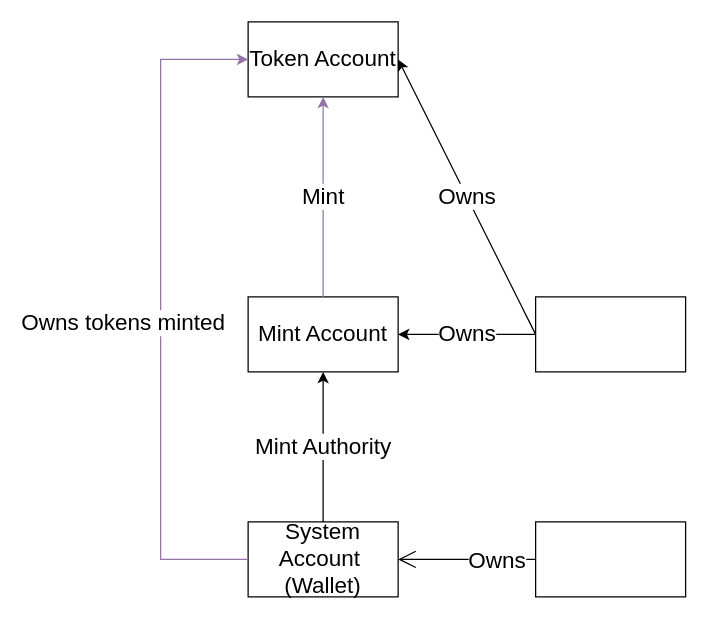
Image size: 708x621. Some labels were removed from this diagram. Here are the shapes that lost their labels. From the top down, the centre of each, then its label:
At point 610,334: "Token Program".
At point 610,559: "System Program".
